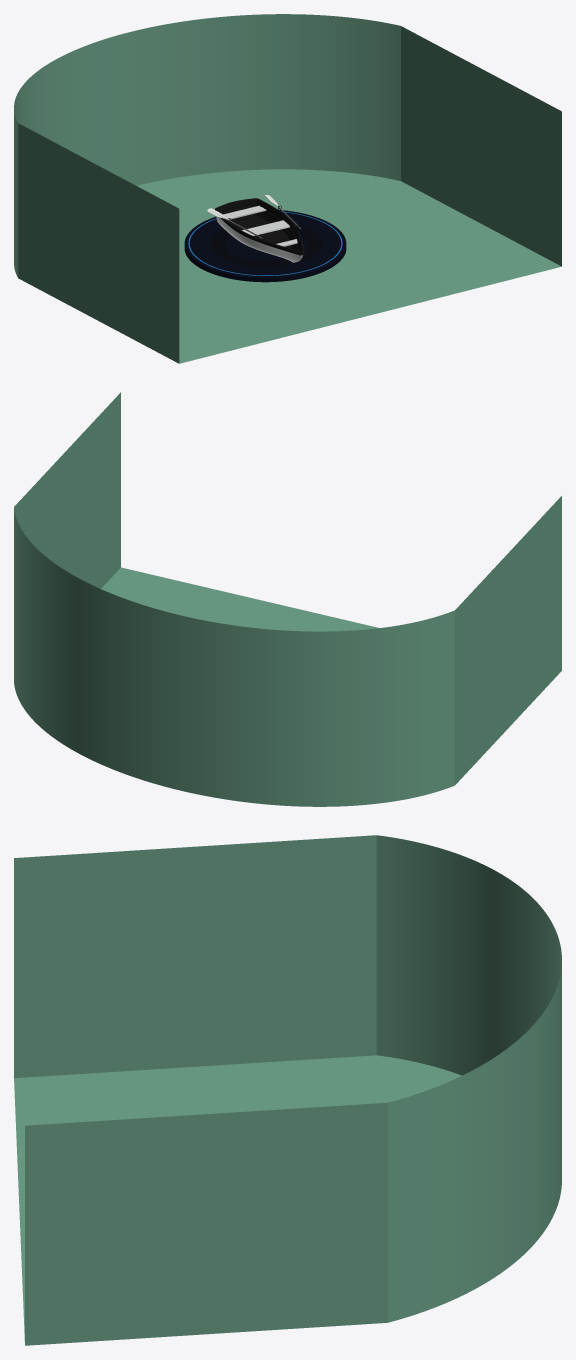
File: boat.FBX
3 views of the same model, one above another, from view 1: azimuth 30°, elevation 25°; view 2: azimuth 150°, elevation 25°; view 3: azimuth 270°, elevation 25° (orthographic). The views are drawn at different scales.
Visible parts, largest first — view 1: Object59446, Circle2460, arch48_014_obj_01, Object58955, arch48_014_obj_02, Group63836; view 2: Object59446; view 3: Object59446.
Boxes of the visible parts, bbox=[...] form: Object59446: bbox=[14, 14, 561, 363]; Circle2460: bbox=[184, 210, 346, 282]; arch48_014_obj_01: bbox=[215, 198, 304, 255]; Object58955: bbox=[210, 223, 322, 267]; arch48_014_obj_02: bbox=[223, 205, 297, 246]; Group63836: bbox=[216, 216, 302, 262]; Object59446: bbox=[14, 392, 561, 806]; Object59446: bbox=[14, 835, 561, 1345].
Size of the model in its own units: 18.98 by 6.71 by 15.13.
